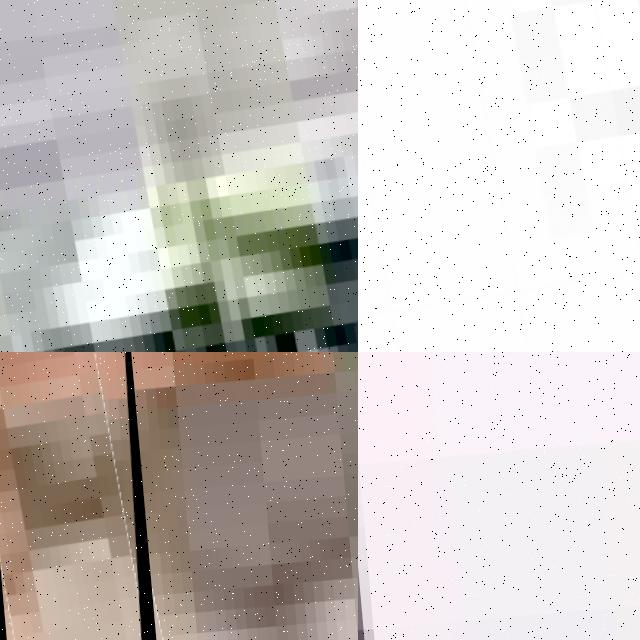0: (0, 0, 358, 352), (0, 352, 166, 640)
drone: (358, 0, 640, 352)
